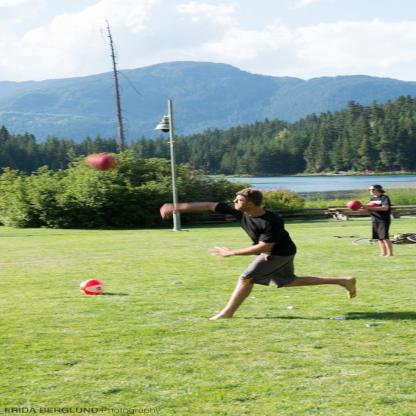Ball: (87, 155, 115, 169), (82, 280, 105, 295), (351, 199, 363, 211), (367, 202, 375, 210)
